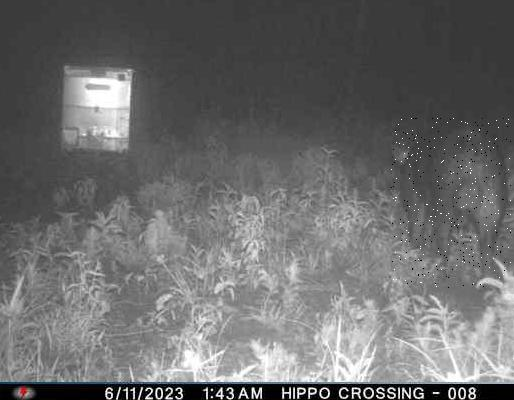Hog: (392, 118, 512, 288)
